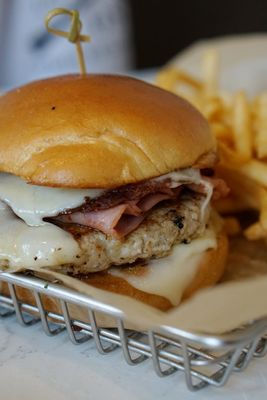soup: (0, 75, 231, 310)
